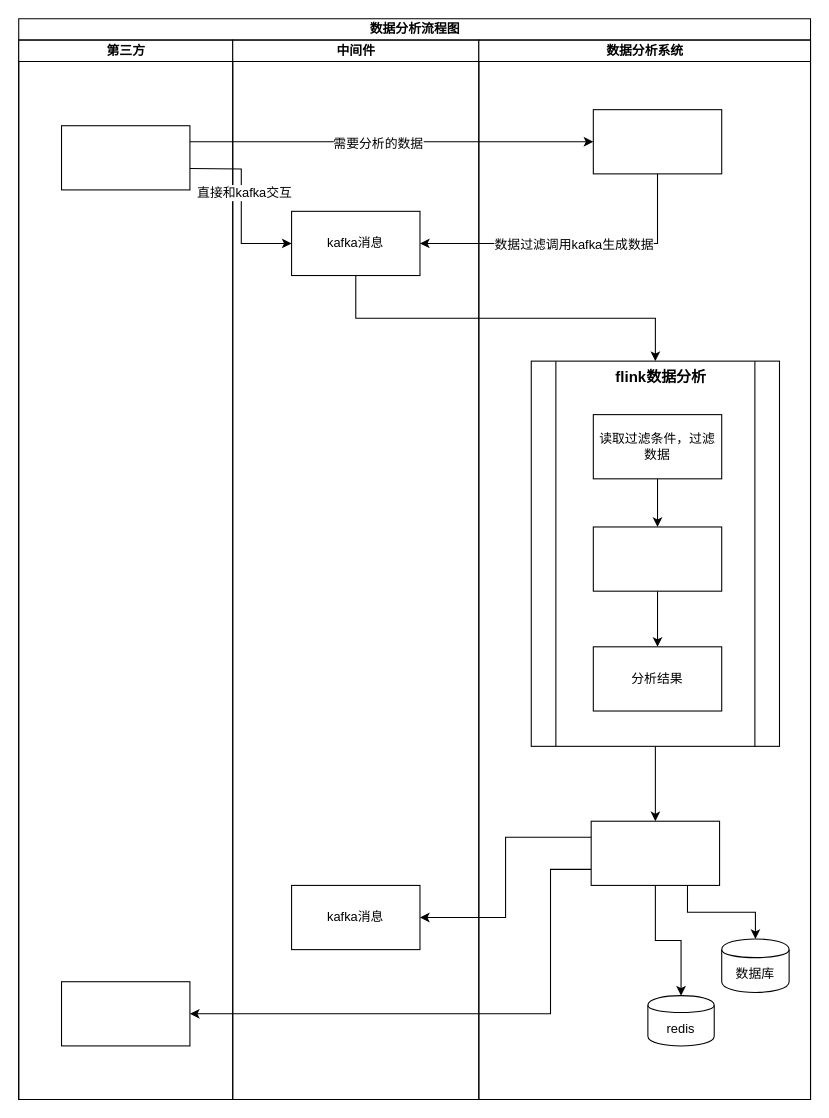
Some shapes in this 829 by 1118 pixel diagram are drawn without their labels. The shapes that lost their labels are listed below. From the top down, each one's centre as x and y in pixels, then its label:
At pixel 125 157: "第三方数据".
At pixel 657 141: "接口服务".
At pixel 657 558: "数据分析".
At pixel 655 852: "结果处理配置".
At pixel 125 1013: "第三方分析结果接收接口".
